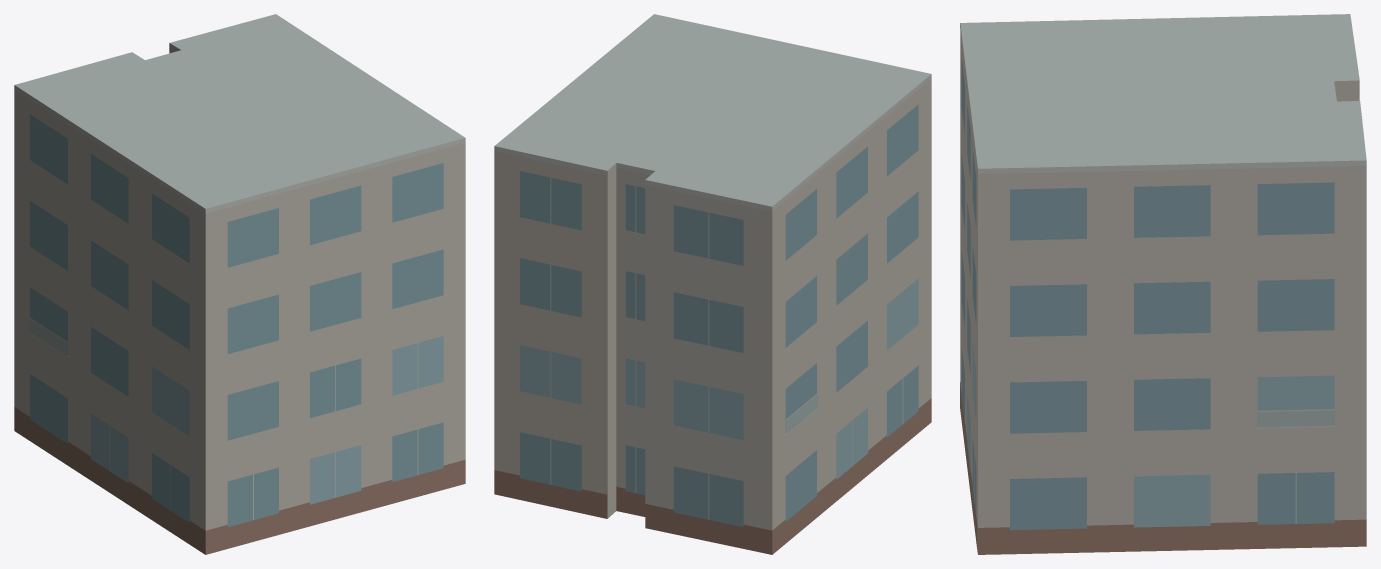
File: survey-upis-32782031.glb
3 views of the same model, side by side, from view 1: azimuth 30°, elevation 25°; view 2: azimuth 150°, elevation 25°; view 3: azimuth 270°, elevation 25° (orthographic). The views are drawn at different scales.
Parts seen in each view (by area): view 1: survey-upis-32782031.tmp; view 2: survey-upis-32782031.tmp; view 3: survey-upis-32782031.tmp.
Part boxes in pixels (<box>): survey-upis-32782031.tmp: <box>14,14,465,554</box>; survey-upis-32782031.tmp: <box>494,14,931,554</box>; survey-upis-32782031.tmp: <box>960,14,1366,554</box>.
Size of the model in its own units: 14.97 by 17.4 by 16.61.
